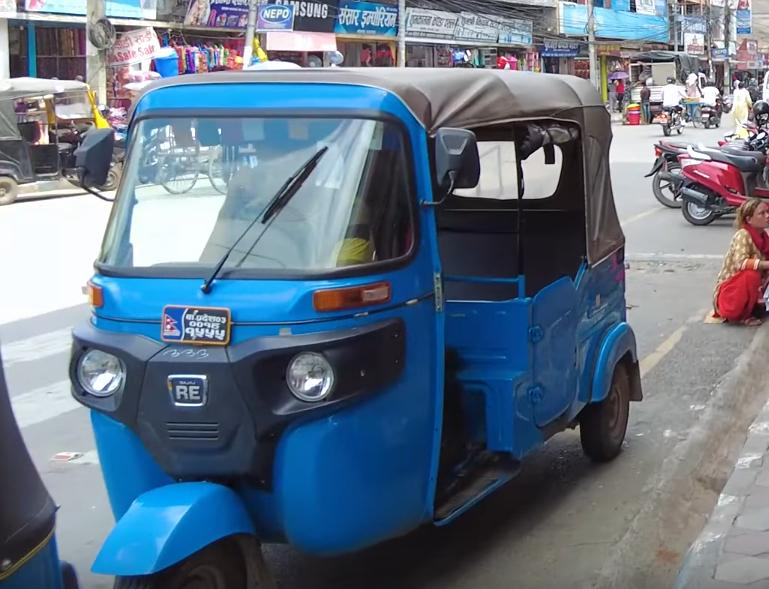auto_rickshaw: (58, 61, 646, 589), (0, 74, 125, 204)
bike: (656, 98, 685, 138)
scooter: (674, 138, 769, 228)
